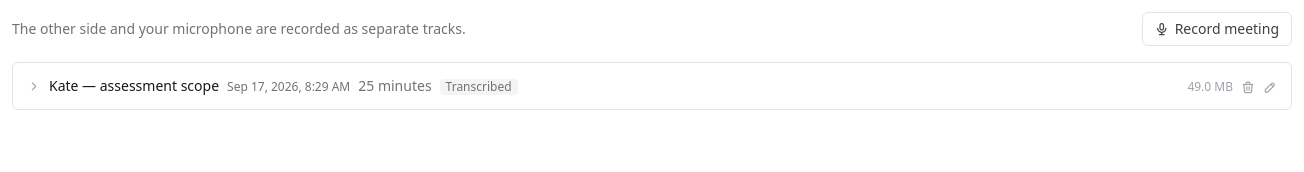
Test: deleting a whole meeting › names what is being destroyed, not just 'delete'
expect the list with test id "meetings-list" is shown: met, box left=12, top=62, right=1292, bottom=110
Click the button with test id "purge-start" at (1248, 86), box left=1241, top=75, right=1255, bottom=97
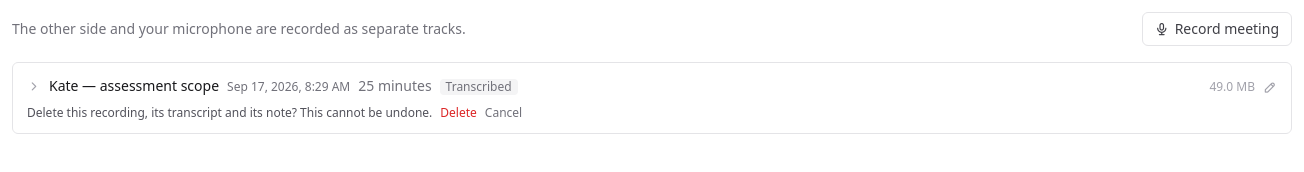
expect the element with test id "purge-confirm" shows "transcript": met, box left=27, top=104, right=432, bottom=121
expect the element with test id "purge-confirm" shows "cannot be undone": met, box left=27, top=104, right=432, bottom=121
